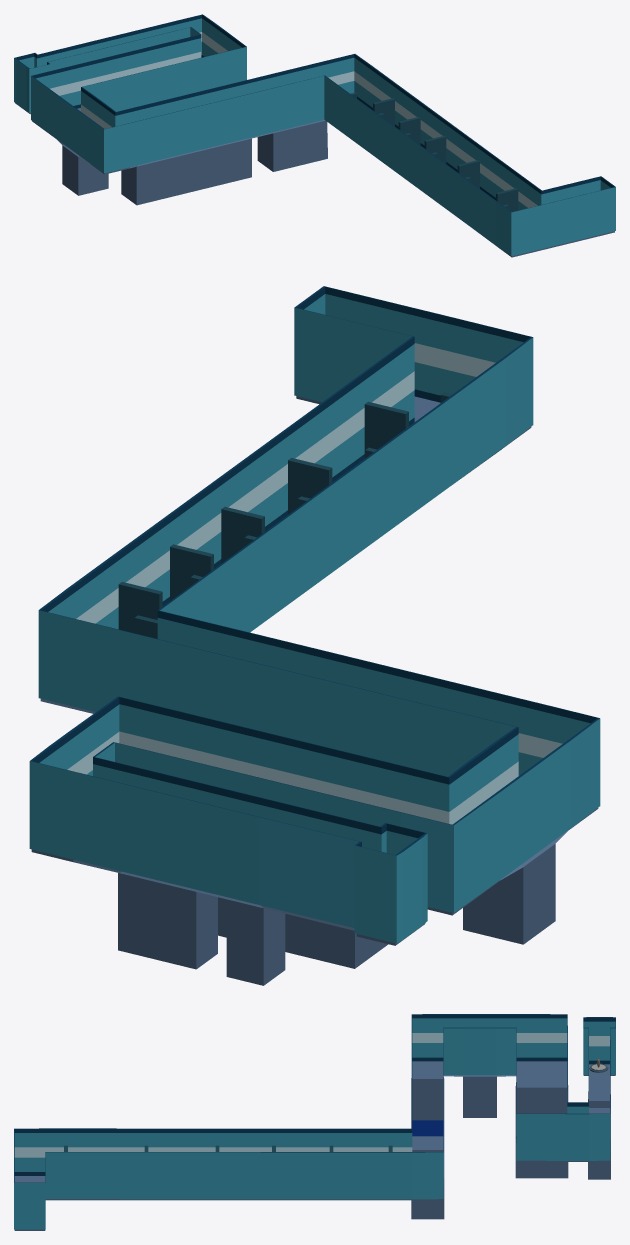
3 views of the same model, one above another, from view 1: azimuth 30°, elevation 25°; view 2: azimuth 150°, elevation 25°; view 3: azimuth 270°, elevation 25° (orthographic). The views are drawn at different scales.
Parts seen in each view (by area): view 1: walll1, poll1, dwall; view 2: walll1, poll1, dwall; view 3: walll1, poll1.
Part boxes in pixels (x1,y1,x2,y2): walll1: (14, 14, 615, 256); poll1: (15, 103, 614, 257); dwall: (350, 92, 518, 211); walll1: (29, 286, 600, 943); poll1: (31, 396, 598, 985); dwall: (118, 392, 452, 638); walll1: (14, 1014, 615, 1229); poll1: (14, 1061, 615, 1230).
Bounding box in the file's own units: 3835 × 938 × 5751.
Materials: 1 (1 with a texture image).
